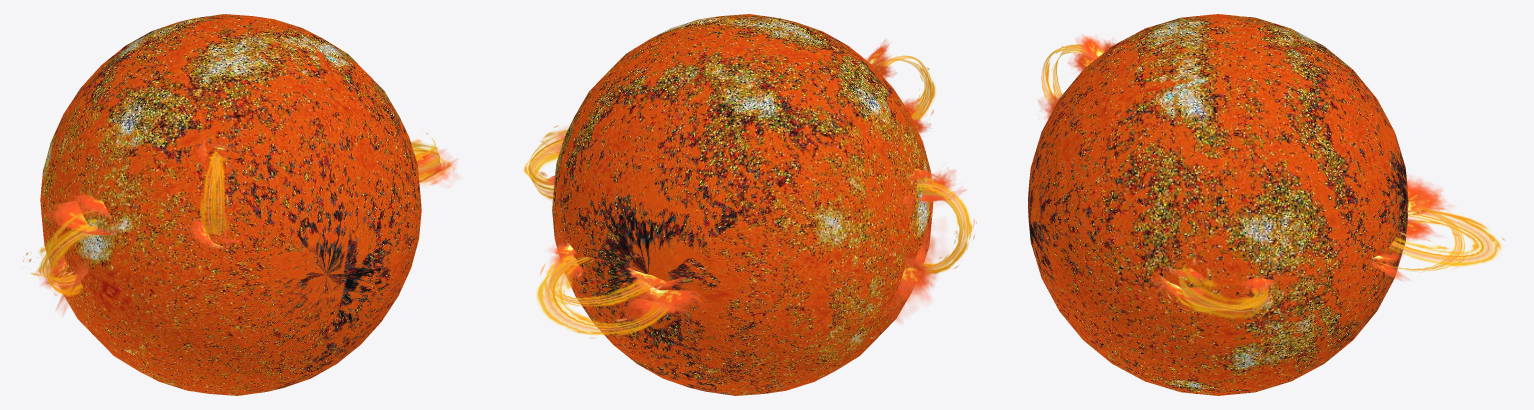
The model's file is fractured_sun.glb.
3 renders of one model, left to right at view 1: azimuth 30°, elevation 25°; view 2: azimuth 150°, elevation 25°; view 3: azimuth 270°, elevation 25°, orthographic.
Visible parts, largest first — view 1: Sphere.001, Cylinder.002, Cylinder.005_0, Cylinder.004_0, Plane.003, Cylinder.003, Plane.005, Cylinder.001_0, Plane.016, Plane.011, Plane.013, Plane.010; view 2: Sphere.001, Cylinder.006_0, Cylinder.007_0, Cylinder.003, Plane.011, Cylinder.001_0, Plane.004, Plane.010, Cylinder.002, Cylinder.004_0, Plane.006, Plane.008 (+5 smaller); view 3: Sphere.001, Cylinder.006_0, Cylinder.001_0, Cylinder.007_0, Cylinder_0, Plane.004, Plane.001, Plane.016, Cylinder.005_0, Plane.019, Plane.000, Plane.006.
Boxes of the visible parts, left/top/right/bottom form: Sphere.001: left=40, top=14, right=421, bottom=395; Cylinder.002: left=22, top=209, right=99, bottom=282; Cylinder.005_0: left=208, top=156, right=230, bottom=234; Cylinder.004_0: left=199, top=151, right=229, bottom=232; Plane.003: left=44, top=201, right=104, bottom=235; Cylinder.003: left=40, top=211, right=93, bottom=296; Plane.005: left=63, top=192, right=114, bottom=222; Cylinder.001_0: left=411, top=132, right=439, bottom=178; Plane.016: left=418, top=149, right=457, bottom=184; Plane.011: left=56, top=252, right=91, bottom=315; Plane.013: left=187, top=218, right=223, bottom=248; Plane.010: left=36, top=255, right=67, bottom=293; Sphere.001: left=552, top=14, right=933, bottom=395; Cylinder.006_0: left=536, top=256, right=669, bottom=338; Cylinder.007_0: left=540, top=255, right=661, bottom=312; Cylinder.003: left=912, top=178, right=976, bottom=273; Plane.011: left=887, top=220, right=946, bottom=322; Cylinder.001_0: left=529, top=125, right=567, bottom=200; Plane.004: left=637, top=277, right=710, bottom=310; Plane.010: left=898, top=257, right=936, bottom=293; Cylinder.002: left=917, top=180, right=970, bottom=278; Cylinder.004_0: left=874, top=59, right=935, bottom=121; Plane.006: left=622, top=298, right=688, bottom=320; Plane.008: left=547, top=240, right=586, bottom=285; Sphere.001: left=1028, top=14, right=1408, bottom=395; Cylinder.006_0: left=1389, top=208, right=1505, bottom=266; Cylinder.001_0: left=1179, top=257, right=1267, bottom=318; Cylinder.007_0: left=1377, top=204, right=1472, bottom=272; Cylinder_0: left=1167, top=287, right=1271, bottom=311; Plane.004: left=1408, top=182, right=1451, bottom=214; Plane.001: left=1407, top=176, right=1436, bottom=212; Plane.016: left=1151, top=275, right=1208, bottom=300; Cylinder.005_0: left=1041, top=45, right=1086, bottom=103; Plane.019: left=1240, top=273, right=1280, bottom=297; Plane.000: left=1075, top=35, right=1107, bottom=60; Plane.006: left=1406, top=217, right=1442, bottom=240.
Bounding box in the file's own units: 2.71 × 2 × 2.59.
Materials: 5 (5 with a texture image).
